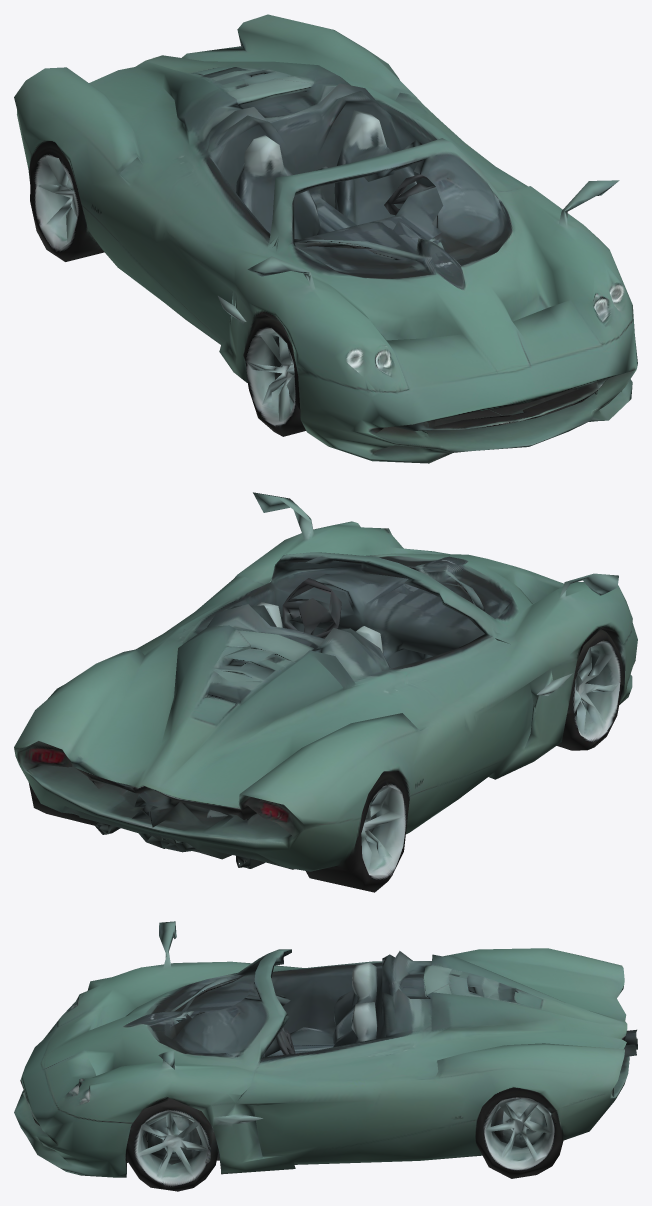
The model's file is Codalunga Speedster.glb.
3 renders of one model, top to bottom at view 1: azimuth 30°, elevation 25°; view 2: azimuth 150°, elevation 25°; view 3: azimuth 270°, elevation 25°, orthographic. The views are drawn at different scales.
Parts seen in each view (by area): view 1: tripo_node_32adcc5f-efc9-4a83-8fbb-b1d75700b682; view 2: tripo_node_32adcc5f-efc9-4a83-8fbb-b1d75700b682; view 3: tripo_node_32adcc5f-efc9-4a83-8fbb-b1d75700b682.
Part boxes in pixels (x1,y1,x2,y2): tripo_node_32adcc5f-efc9-4a83-8fbb-b1d75700b682: (14,14,637,463); tripo_node_32adcc5f-efc9-4a83-8fbb-b1d75700b682: (14,492,637,892); tripo_node_32adcc5f-efc9-4a83-8fbb-b1d75700b682: (14,921,637,1191).
Size of the model in its own units: 0.5378 by 0.2783 by 0.9796.
1 material, 1 textured.
